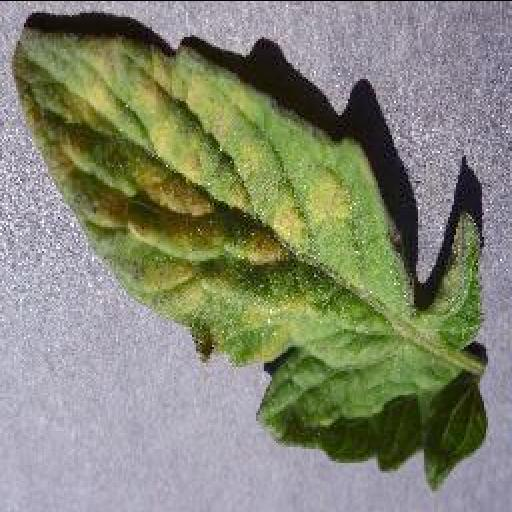disease_tomato: (9, 28, 491, 492)
